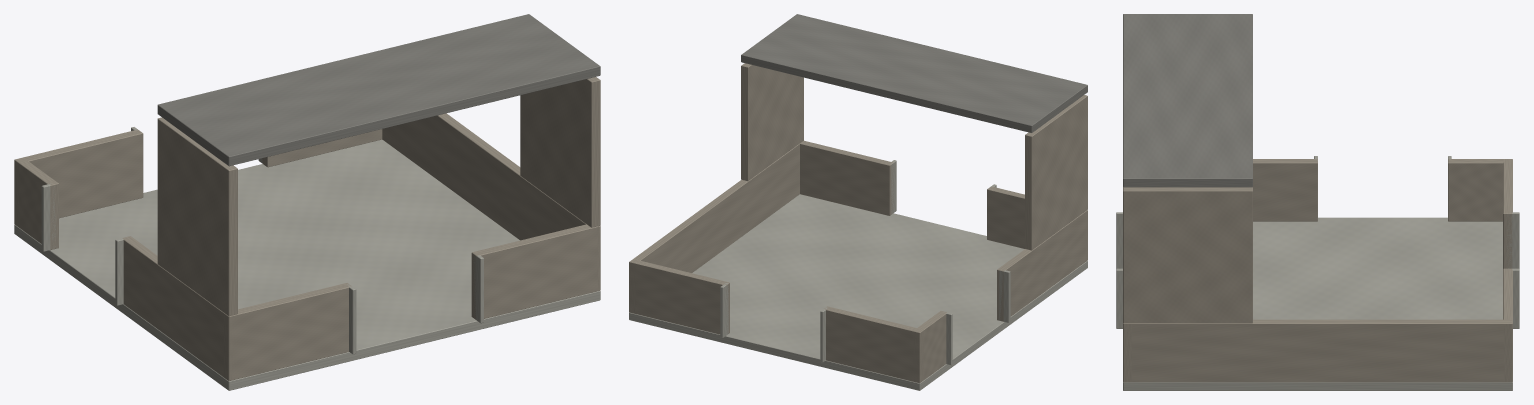
Rendered from I11_CourtyardTransition_visual.glb.
3 renders of one model, left to right at view 1: azimuth 30°, elevation 25°; view 2: azimuth 150°, elevation 25°; view 3: azimuth 270°, elevation 25°, orthographic. The views are drawn at different scales.
Parts seen in each view (by area): view 1: I11_CourtyardTransition__VIS_shell, I11_CourtyardTransition__VIS_roof; view 2: I11_CourtyardTransition__VIS_shell, I11_CourtyardTransition__VIS_roof; view 3: I11_CourtyardTransition__VIS_shell, I11_CourtyardTransition__VIS_roof.
Boxes of the visible parts, bbox=[...] form: I11_CourtyardTransition__VIS_shell: bbox=[14, 77, 600, 390]; I11_CourtyardTransition__VIS_roof: bbox=[157, 14, 600, 166]; I11_CourtyardTransition__VIS_shell: bbox=[629, 63, 1087, 390]; I11_CourtyardTransition__VIS_roof: bbox=[741, 14, 1087, 132]; I11_CourtyardTransition__VIS_shell: bbox=[1116, 156, 1519, 390]; I11_CourtyardTransition__VIS_roof: bbox=[1123, 14, 1252, 187].
Size of the model in its own units: 24.41 by 14.45 by 24.82.
Materials: 1 (1 with a texture image).
